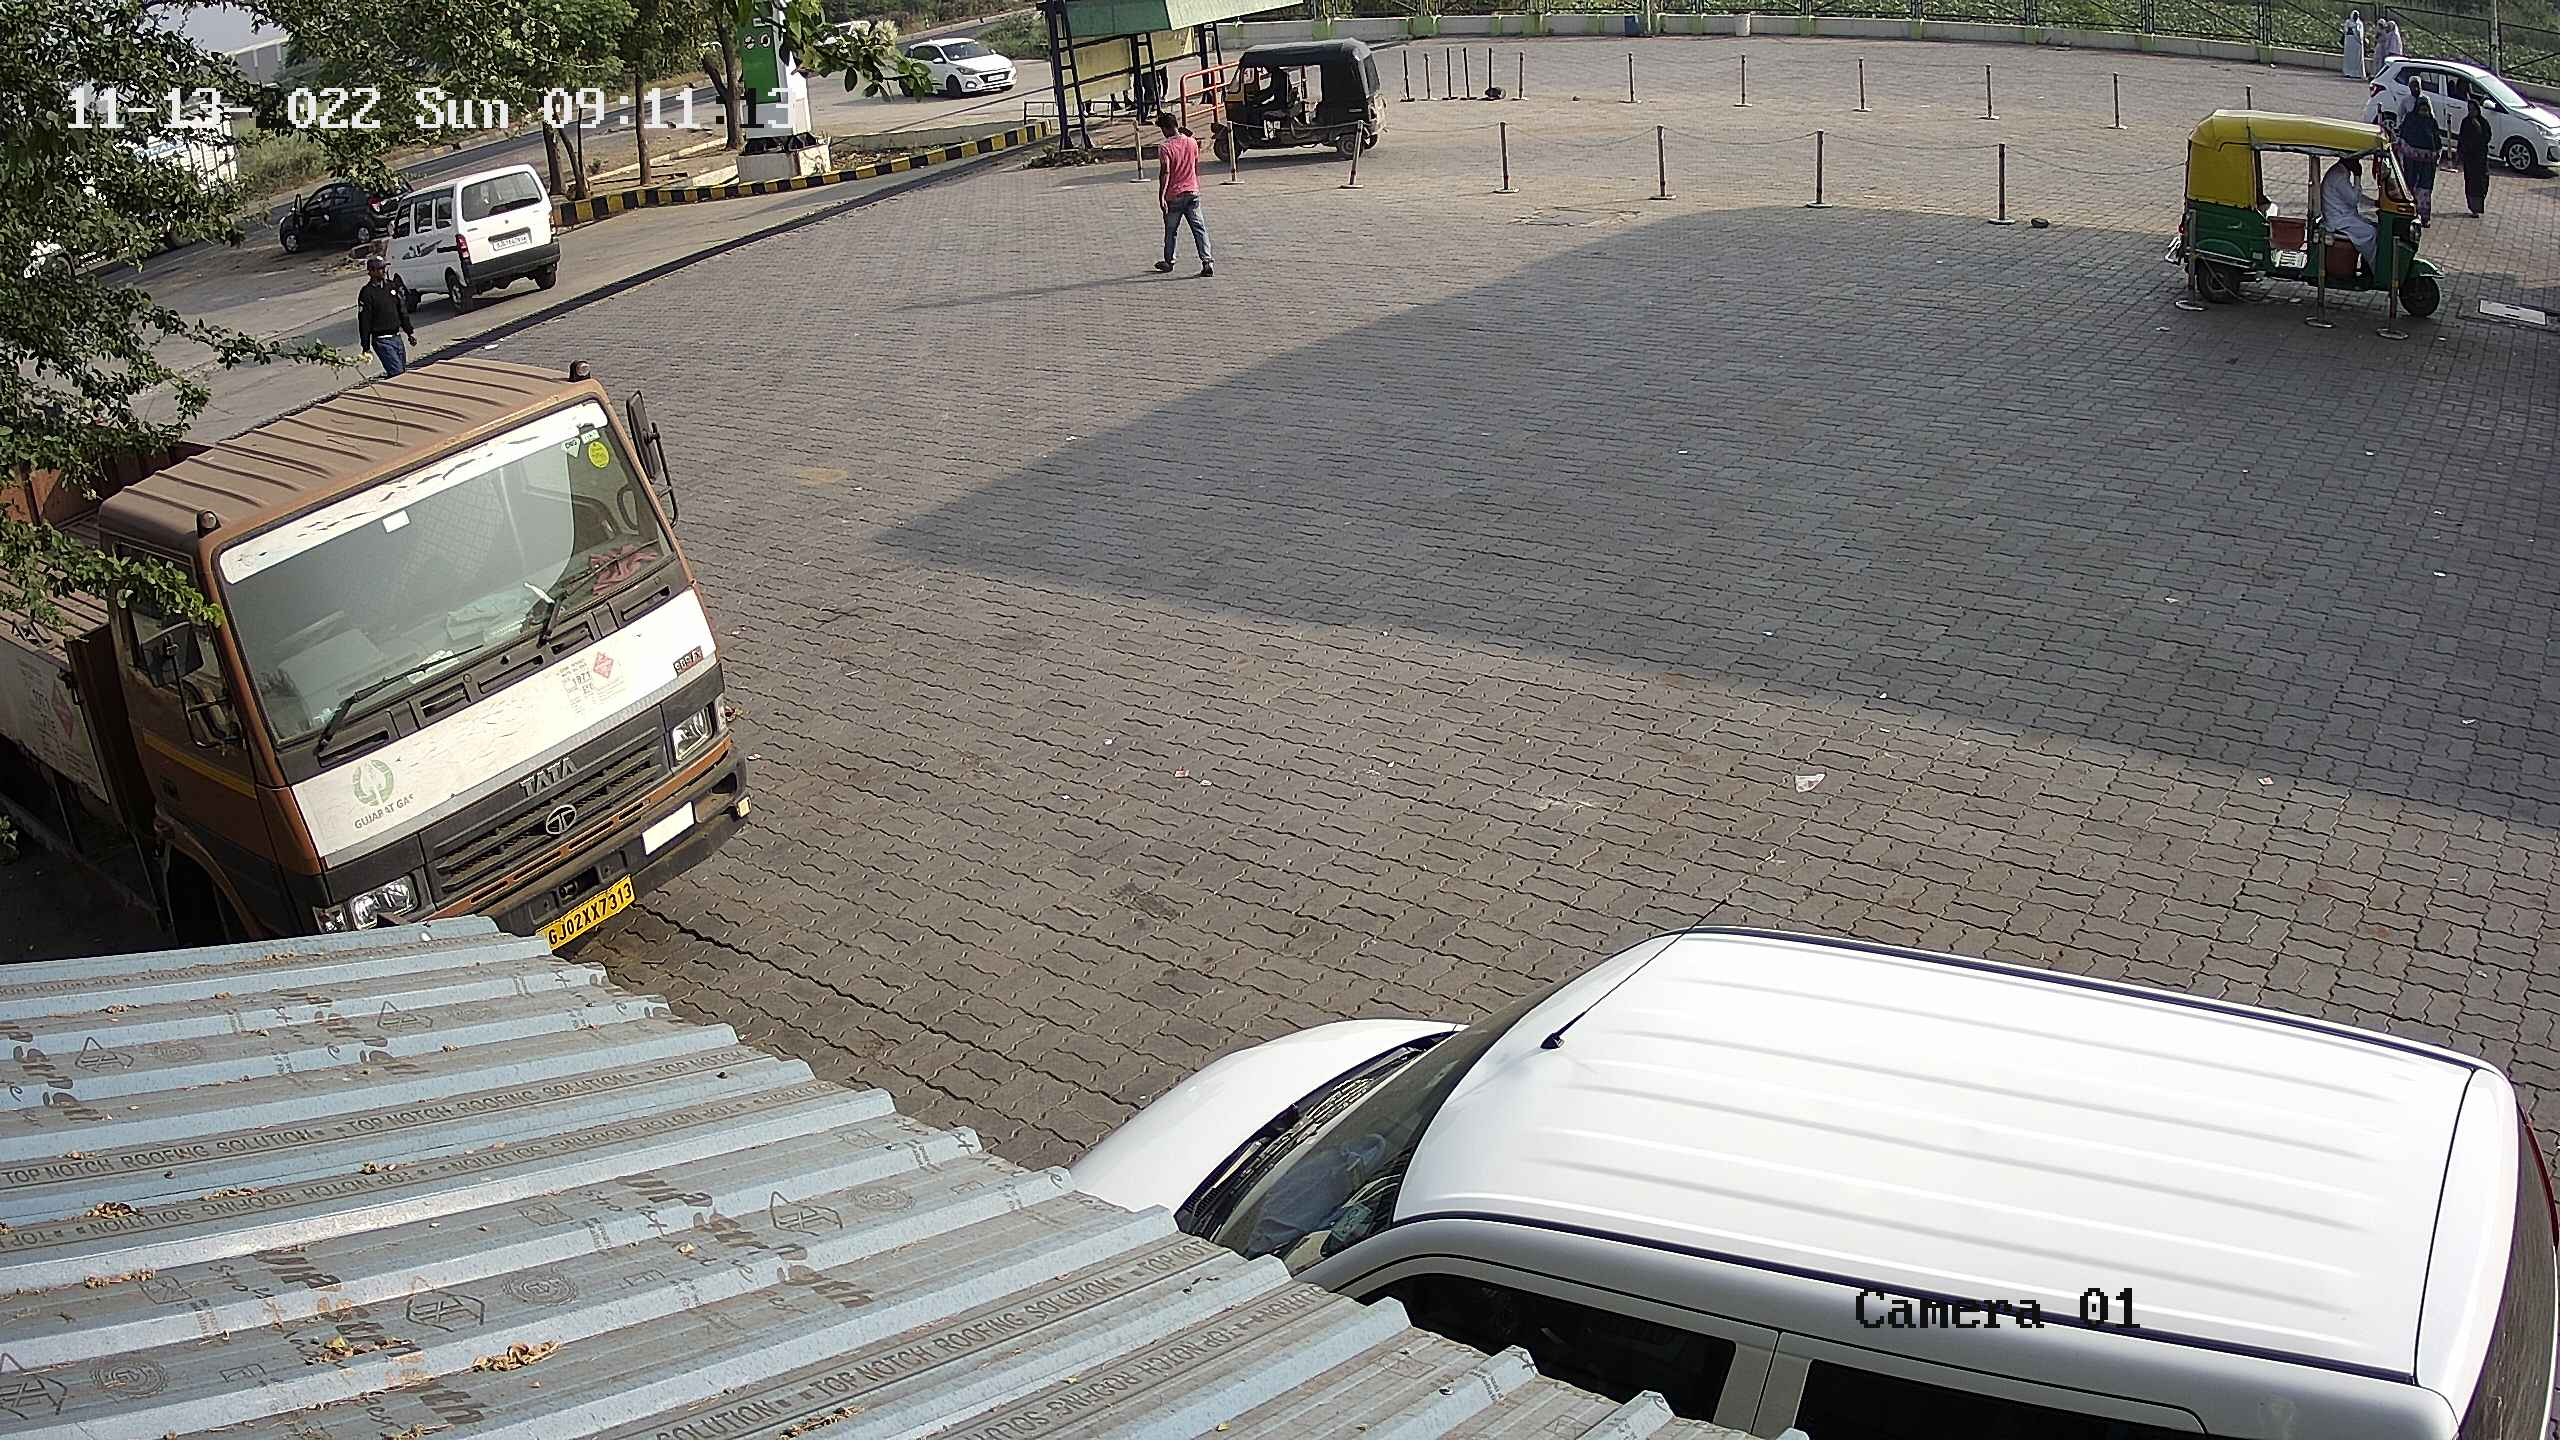Auto: (2157, 90, 2442, 329), (1199, 18, 1389, 179)
Car: (1053, 911, 2558, 1435), (364, 155, 568, 313), (2342, 44, 2560, 192), (265, 164, 406, 251), (883, 26, 1023, 104)
HMV: (0, 343, 760, 964)
